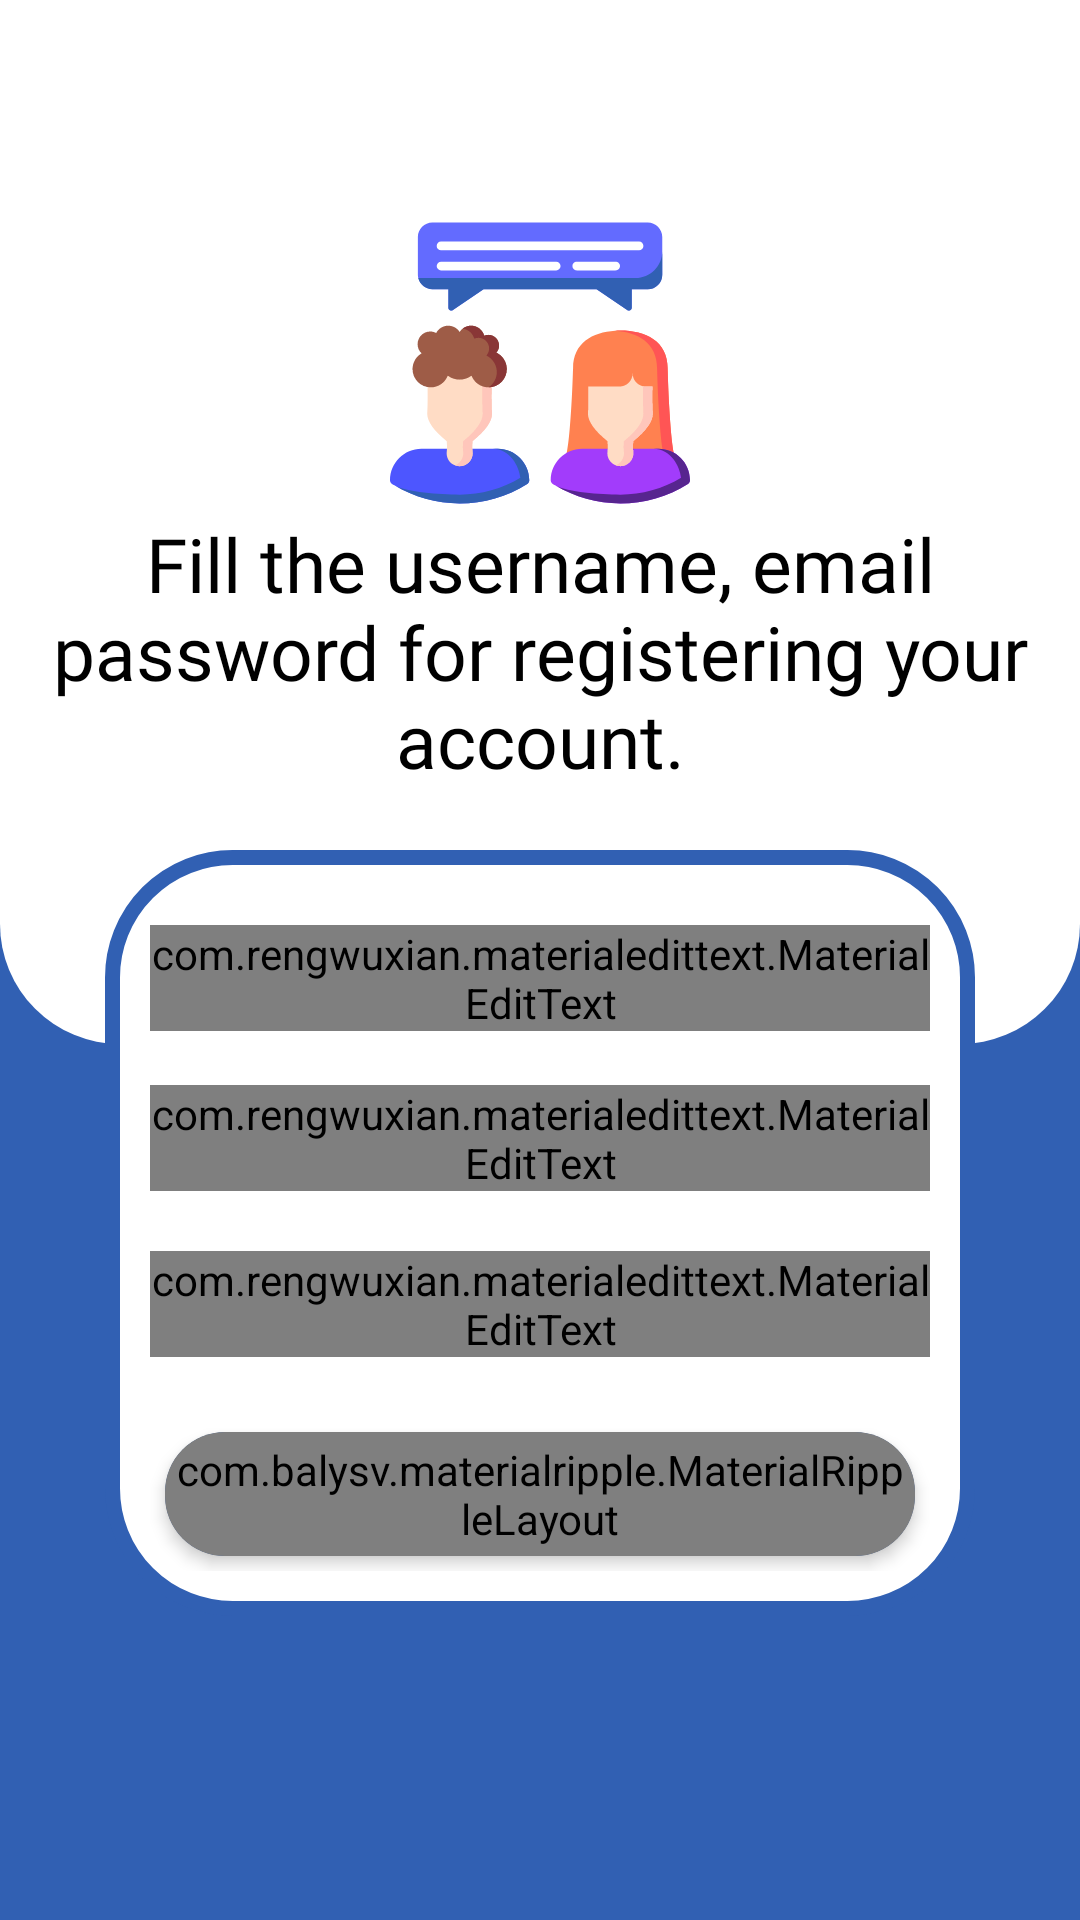

Locate icon controls on the screen. Image size 1080x1920, boxes as {"left": x1, "top": y1, "right": x2, "bottom": y2}.
conversation: {"left": 390, "top": 222, "right": 690, "bottom": 504}
